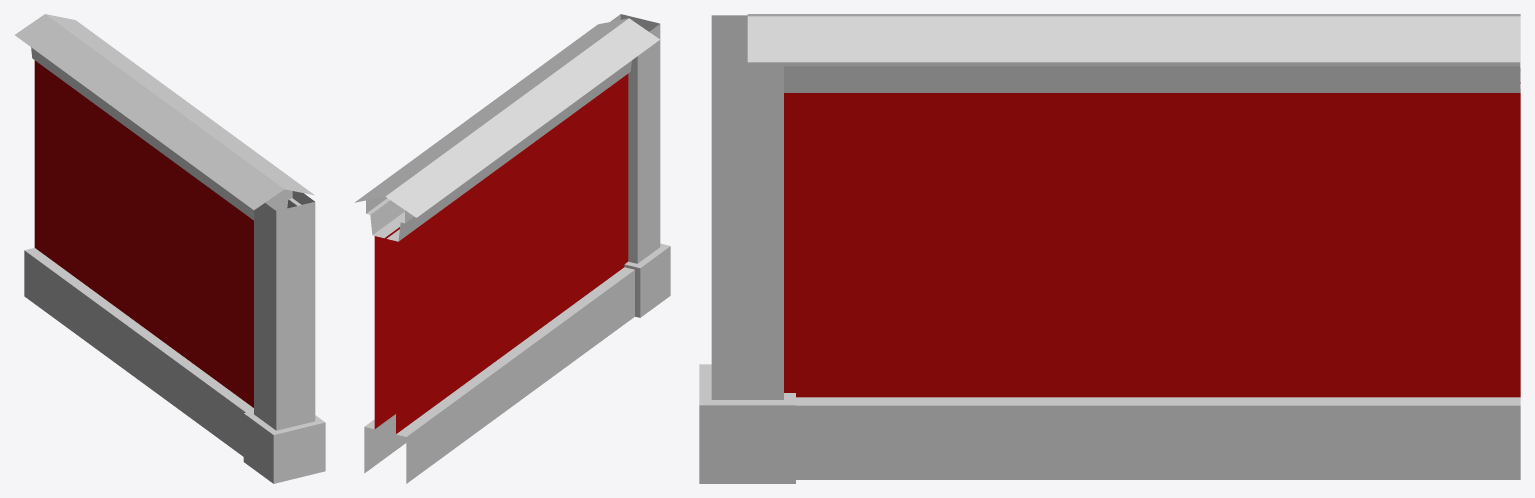
The model's file is fence1.fbx.
3 renders of one model, left to right at view 1: azimuth 30°, elevation 25°; view 2: azimuth 150°, elevation 25°; view 3: azimuth 270°, elevation 25°, orthographic. The views are drawn at different scales.
Parts seen in each view (by area): view 1: merge11; view 2: merge11; view 3: merge11.
Boxes of the visible parts, bbox=[...] form: merge11: bbox=[15, 14, 325, 483]; merge11: bbox=[355, 14, 670, 483]; merge11: bbox=[699, 14, 1520, 483].
Bounding box in the file's own units: 1.18 × 5.11 × 8.5.
